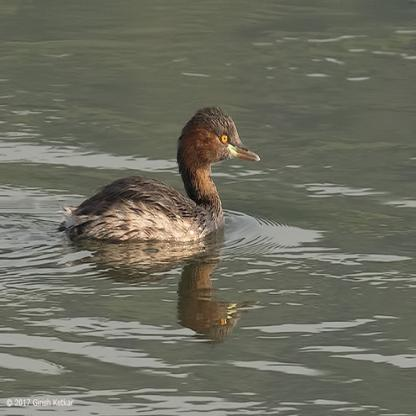Burung: (58, 107, 260, 243)
